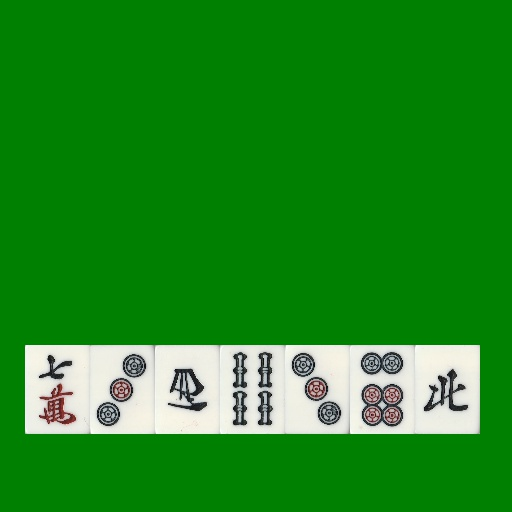3p: (90, 345, 155, 434), (285, 345, 350, 434)
4s: (220, 345, 285, 434)
6p: (350, 345, 415, 434)
7m: (25, 345, 90, 434)
north: (415, 345, 480, 434)
west: (155, 345, 220, 434)
